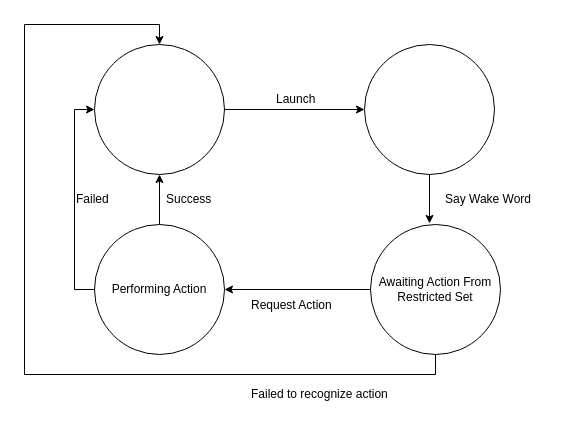
This 561x422 diagram has some shape labels left out. Here are the shapes that lost their labels. From the top down, the box of each, then its label:
(94, 44, 224, 174): Inactive
(364, 44, 494, 174): Sleeping
